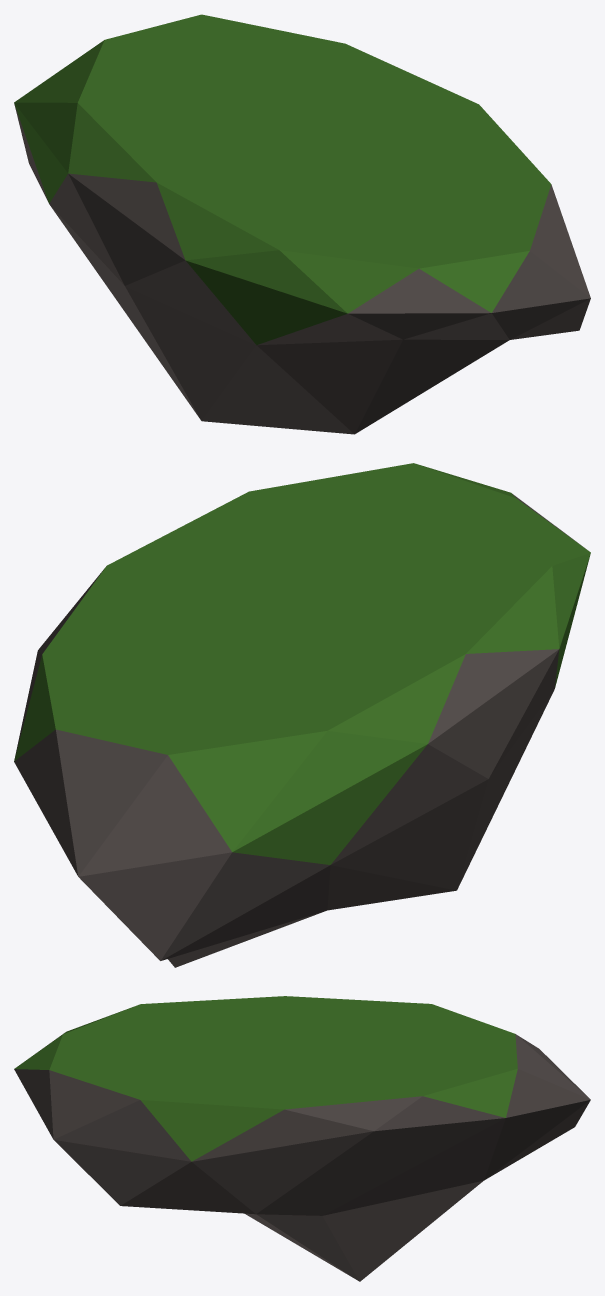
File: LongIsland 1.fbx
3 renders of one model, top to bottom at view 1: azimuth 30°, elevation 25°; view 2: azimuth 150°, elevation 25°; view 3: azimuth 270°, elevation 25°, orthographic. The views are drawn at different scales.
Visible parts, largest first — view 1: Icosphere; view 2: Icosphere; view 3: Icosphere.
Boxes of the visible parts, left/top/right/bottom form: Icosphere: left=14, top=14, right=590, bottom=434; Icosphere: left=14, top=463, right=590, bottom=967; Icosphere: left=14, top=996, right=590, bottom=1281.
Size of the model in its own units: 590 by 452 by 1113.
